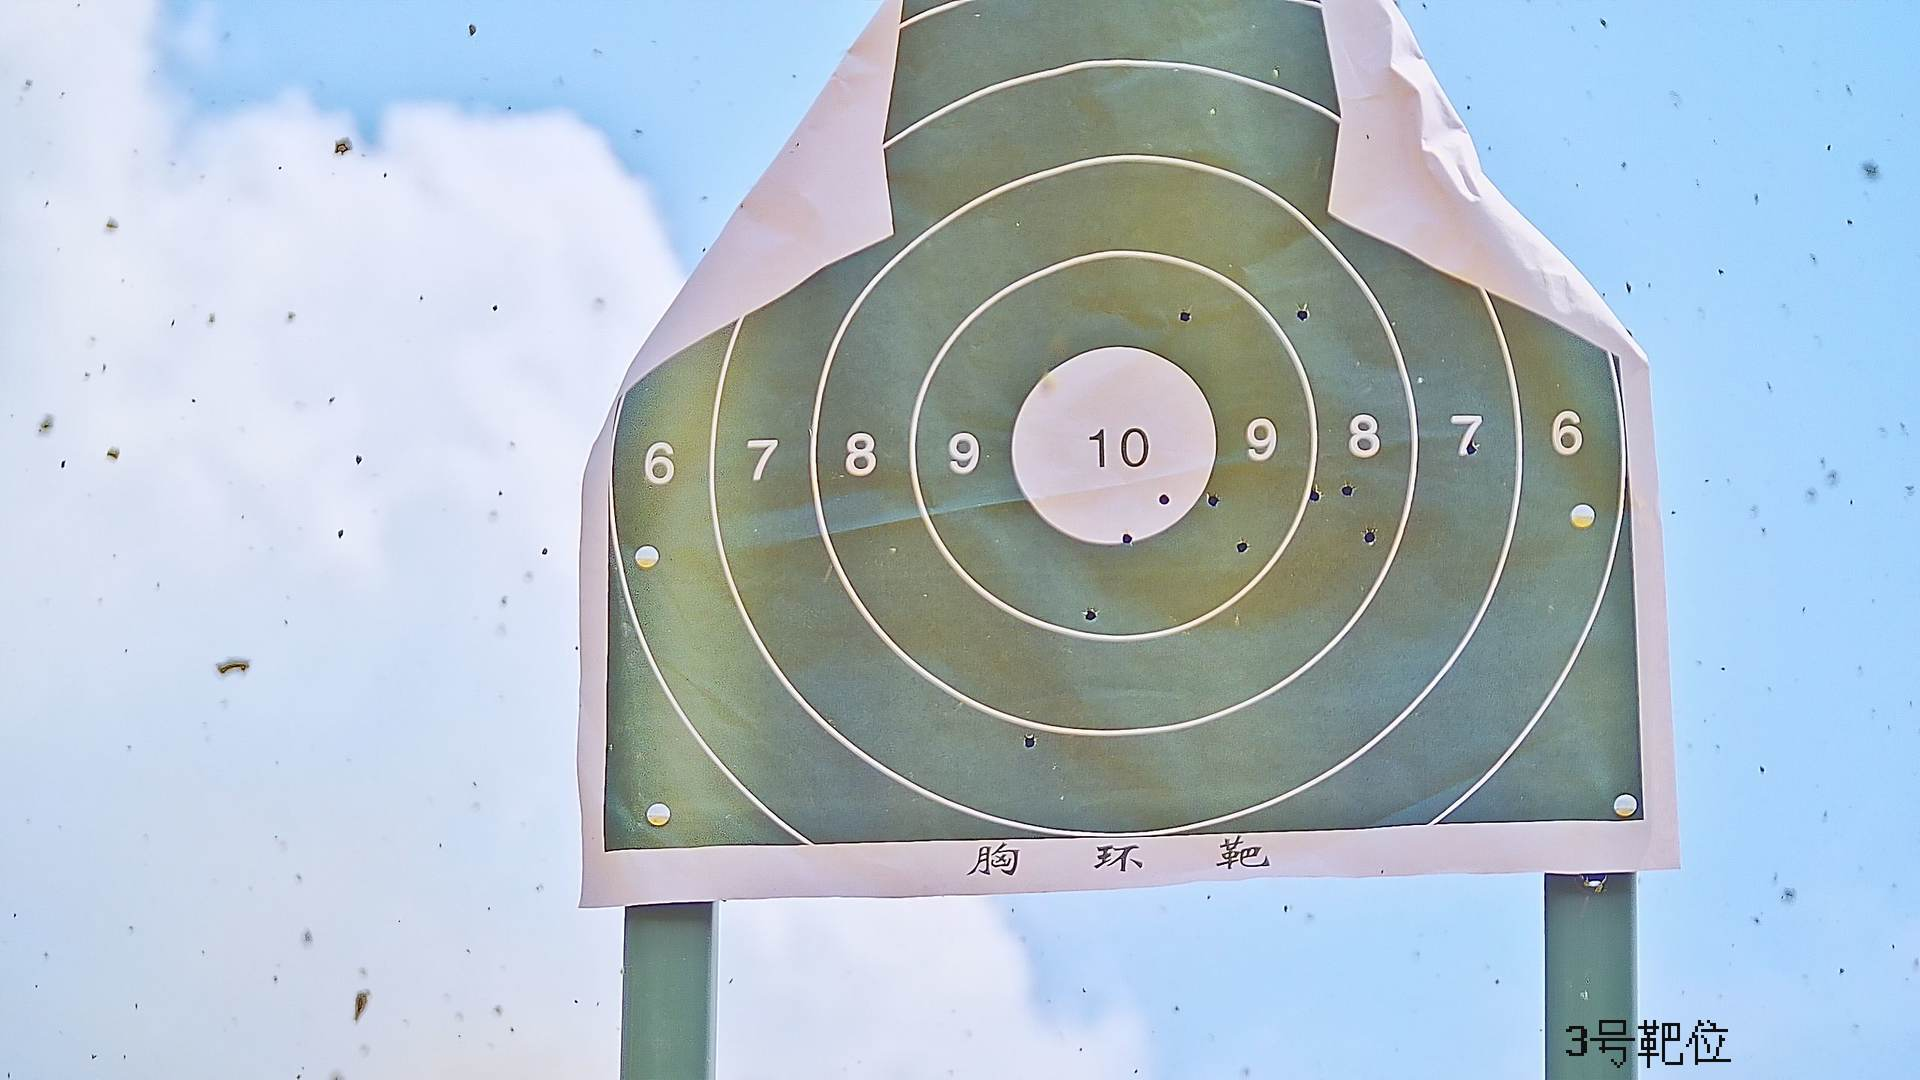hole: (1176, 309, 1193, 324), (1083, 607, 1098, 624), (1307, 487, 1323, 504), (1023, 733, 1038, 752), (1207, 493, 1221, 509), (1341, 483, 1356, 497), (1298, 305, 1311, 320), (1236, 538, 1249, 554), (1364, 527, 1375, 545), (1156, 492, 1171, 505), (1466, 440, 1478, 456), (1120, 533, 1133, 546)
target: (603, 5, 1652, 847)
ten: (1004, 340, 1217, 551)
